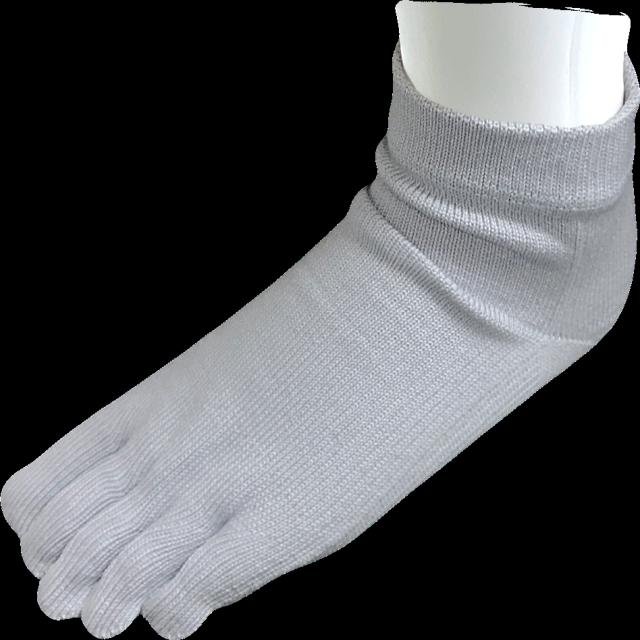sock: (1, 1, 637, 638)
